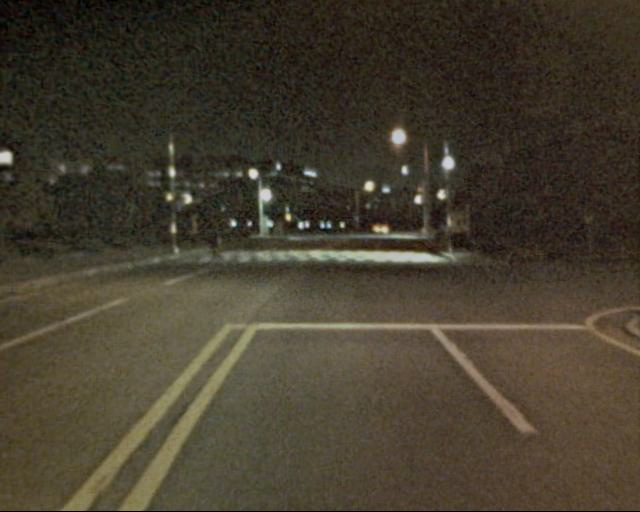person: (205, 224, 226, 272)
